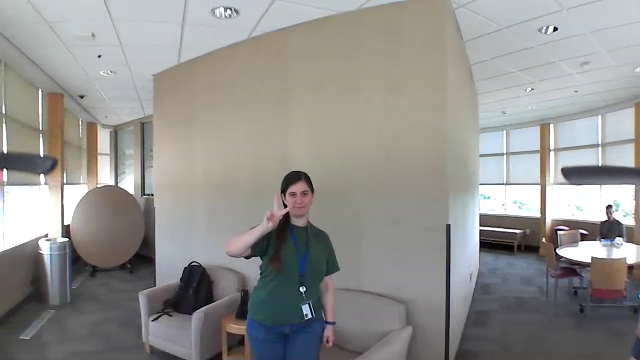peace: (258, 191, 300, 236)
